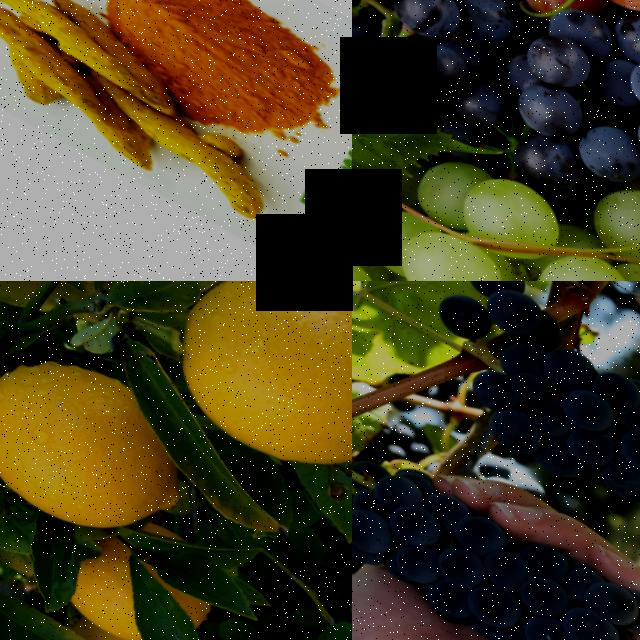grapes: (373, 0, 640, 246), (352, 439, 640, 640), (442, 305, 640, 585), (391, 0, 640, 105), (352, 192, 639, 281)
lemon: (141, 281, 352, 515), (0, 346, 178, 553)
